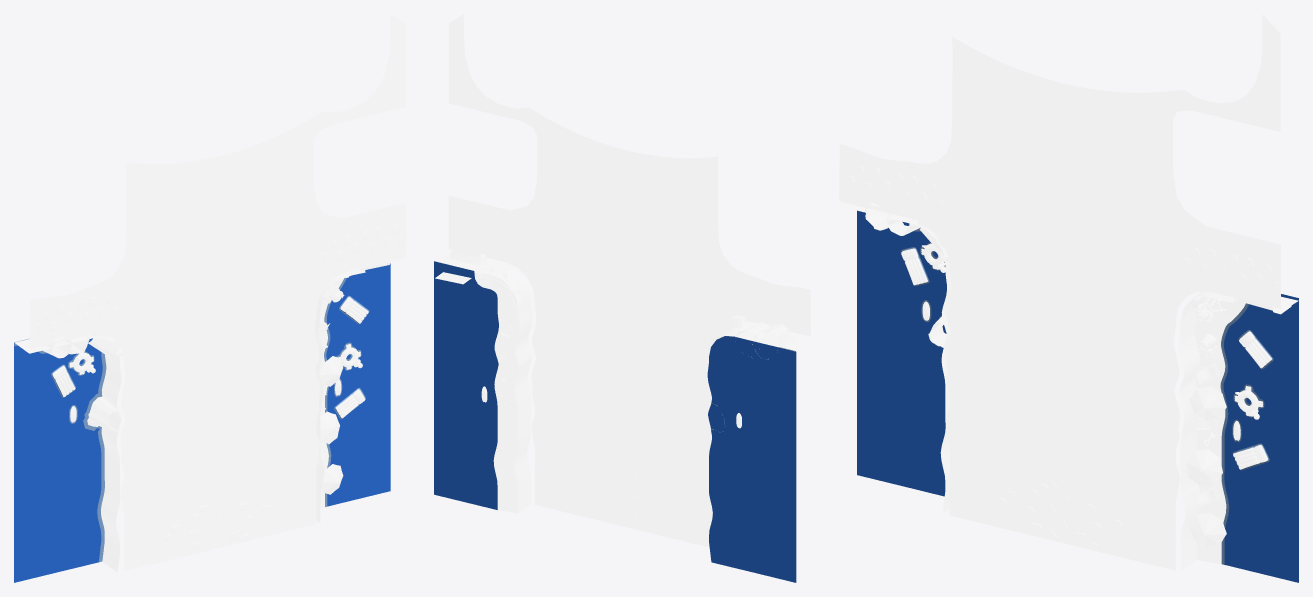
File: bgr_waterpark_ground.glb
3 renders of one model, left to right at view 1: azimuth 30°, elevation 25°; view 2: azimuth 150°, elevation 25°; view 3: azimuth 330°, elevation 25°, orthographic. The views are drawn at different scales.
Visible parts, largest first — view 1: ground, pool_water_bottom_left, pool_water_bottom_right, Cube.073, Cube.074, Cube.031, Cube.032, Circle.025, Cube.029, Cube.035, Cube.066, Cylinder.187 (+1 smaller); view 2: ground, pool_water_bottom_left, pool_water_bottom_right, Cube.032, Cube.074, Cube.073, Cube.006; view 3: ground, pool_water_bottom_left, pool_water_bottom_right, Cube.032, Cube.074, Cube.073, Cylinder.187, Cylinder.188, Cylinder.189, Cube.029, Cube.035, Cube.066 (+3 smaller).
Part boxes in pixels (x1,y1,x2,y2): ground: (29,14,405,571); pool_water_bottom_left: (14,338,102,582); pool_water_bottom_right: (326,263,390,506); Cube.073: (14,333,123,572); Cube.074: (315,259,405,522); Cube.031: (14,338,106,561); Cube.032: (319,278,346,508); Circle.025: (87,396,117,431); Cube.029: (37,294,118,331); Cube.035: (323,224,404,262); Cube.066: (164,503,270,548); Cylinder.187: (320,411,339,444); ground: (448,14,810,547); pool_water_bottom_left: (707,336,796,582); pool_water_bottom_right: (434,261,498,509); Cube.032: (474,272,519,513); Cube.074: (436,250,532,513); Cube.073: (710,315,810,351); Cube.006: (435,241,480,284); ground: (839,14,1280,570); pool_water_bottom_left: (857,210,946,496); pool_water_bottom_right: (1223,294,1298,582); Cube.032: (1195,297,1248,564); Cube.074: (1178,291,1298,571); Cube.073: (839,202,951,513); Cylinder.187: (1186,449,1222,486); Cylinder.188: (1189,386,1226,420); Cylinder.189: (1189,512,1226,547); Cube.029: (848,166,943,210); Cube.035: (1183,248,1278,292); Cube.066: (997,484,1122,548).
Size of the model in its own units: 43.26 by 54.06 by 5.24.
